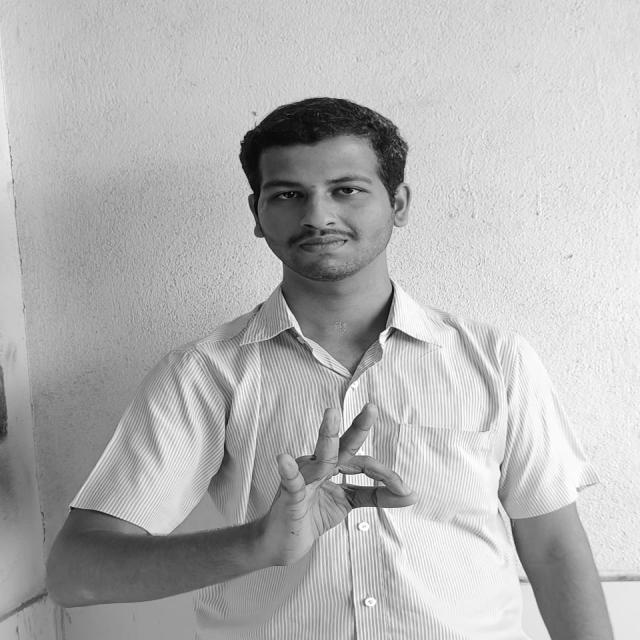Superb: (264, 404, 424, 565)
